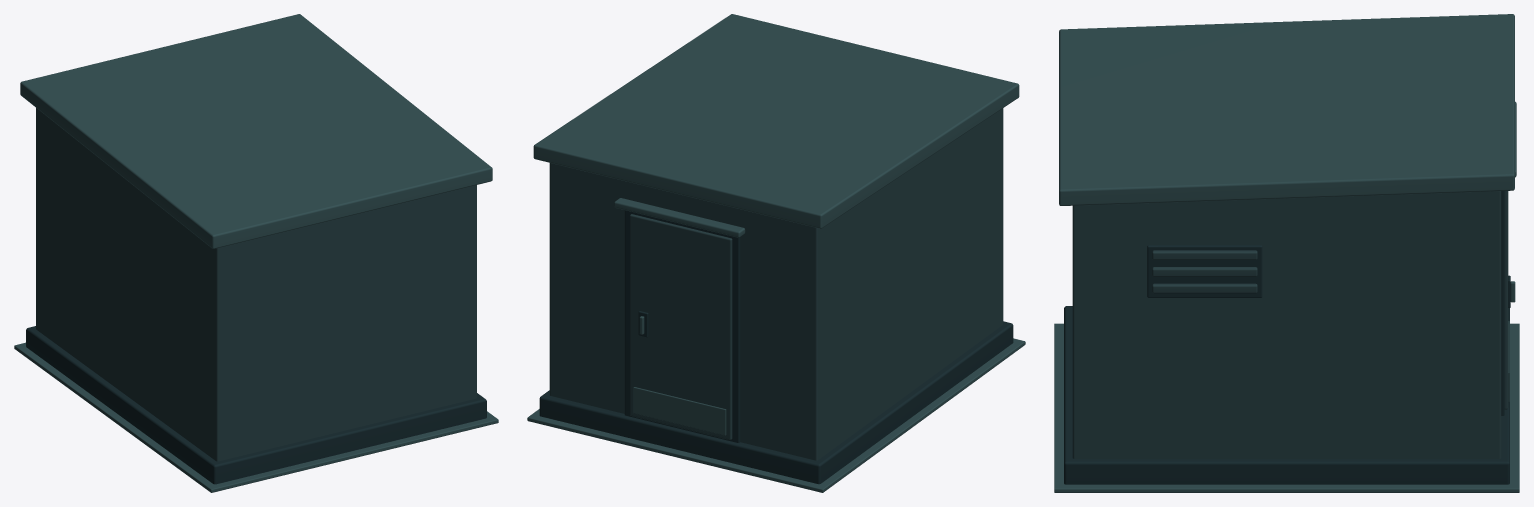
The model's file is city_roof_details_03.glb.
3 renders of one model, left to right at view 1: azimuth 30°, elevation 25°; view 2: azimuth 150°, elevation 25°; view 3: azimuth 270°, elevation 25°, orthographic. The views are drawn at different scales.
Parts seen in each view (by area): view 1: CityRoofDetails03_Mesh; view 2: CityRoofDetails03_Mesh; view 3: CityRoofDetails03_Mesh.
Boxes of the visible parts, x1,y1,x2,y2 form: CityRoofDetails03_Mesh: (14, 14, 498, 492); CityRoofDetails03_Mesh: (527, 14, 1025, 492); CityRoofDetails03_Mesh: (1054, 14, 1519, 492).
Size of the model in its own units: 3.2 by 2.85 by 3.8.
